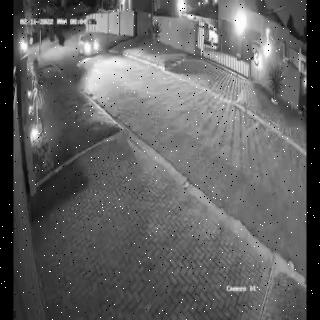car: (78, 32, 99, 56), (203, 22, 218, 46)
